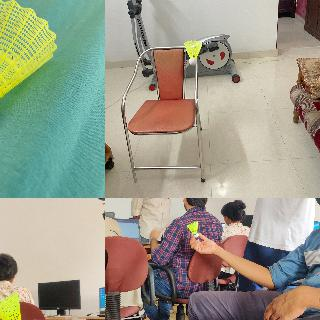shuttlecock: (0, 0, 57, 135), (0, 292, 26, 319), (184, 40, 202, 64), (186, 221, 198, 237)
